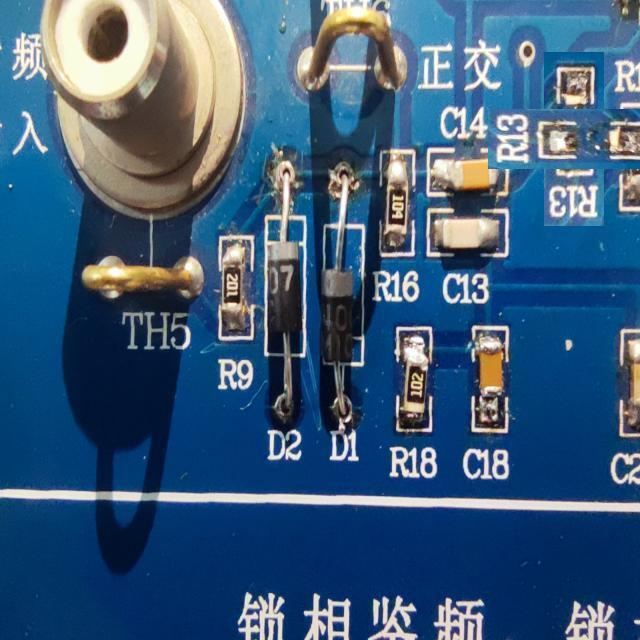miss_welding: (516, 81, 632, 198)
